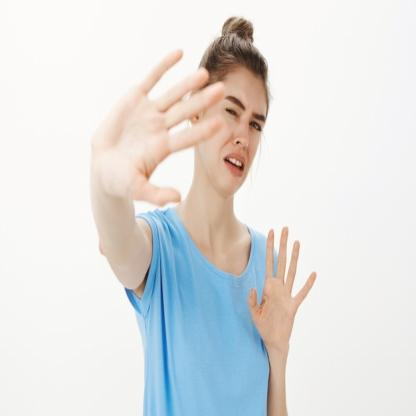stop: (90, 42, 226, 209), (248, 222, 318, 348)
